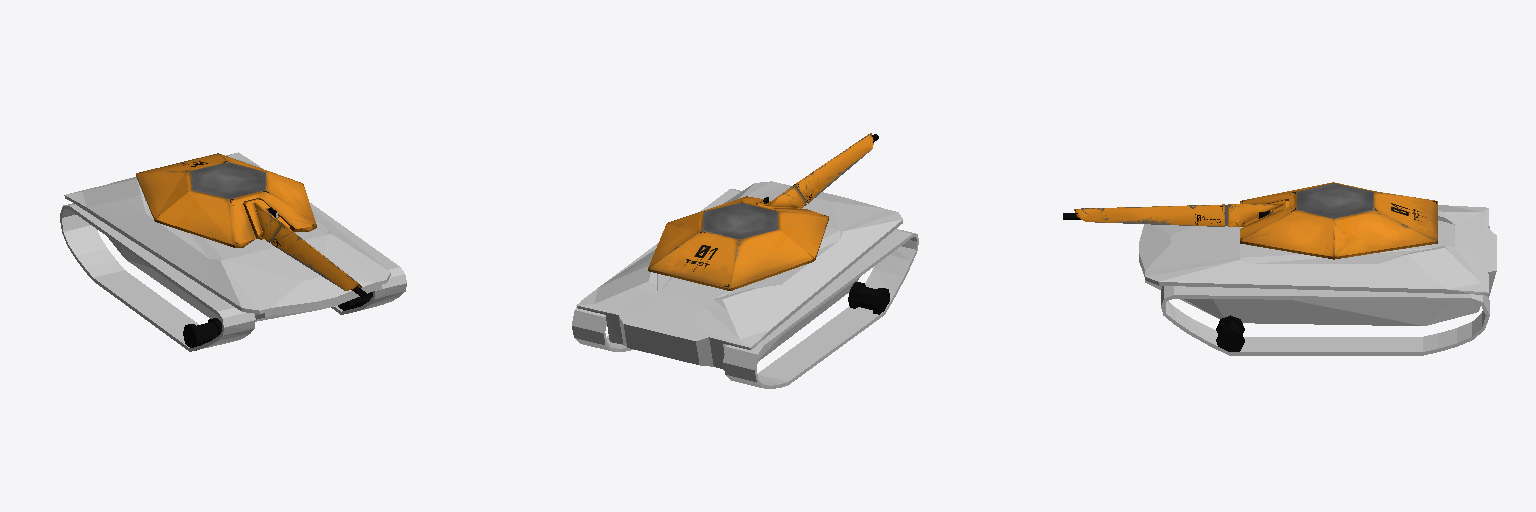
3 views of the same model, side by side, from view 1: azimuth 30°, elevation 25°; view 2: azimuth 150°, elevation 25°; view 3: azimuth 270°, elevation 25° (orthographic).
Visible parts, largest first — view 1: Cube_Cube.003, Object_Cylinder.002, Cube.003_Cube.005, gun_Cylinder.012, Cylinder.002_Cylinder.001; view 2: Cube_Cube.003, Object_Cylinder.002, Cube.003_Cube.005, gun_Cylinder.012, Cylinder.002_Cylinder.001; view 3: Cube_Cube.003, Object_Cylinder.002, Cube.003_Cube.005, gun_Cylinder.012, Cylinder.002_Cylinder.001.
Boxes of the visible parts, box(x1,y1,x2,y2) form: Cube_Cube.003: box(64, 152, 390, 321); Object_Cylinder.002: box(136, 153, 316, 247); Cube.003_Cube.005: box(60, 202, 406, 351); gun_Cylinder.012: box(243, 199, 361, 290); Cylinder.002_Cylinder.001: box(183, 292, 372, 350); Cube_Cube.003: box(576, 181, 902, 369); Object_Cylinder.002: box(648, 196, 828, 290); Cube.003_Cube.005: box(572, 189, 918, 388); gun_Cylinder.012: box(757, 133, 873, 208); Cylinder.002_Cylinder.001: box(848, 282, 889, 314); Cube_Cube.003: box(1139, 205, 1496, 325); Object_Cylinder.002: box(1240, 182, 1437, 259); Cube.003_Cube.005: box(1161, 226, 1489, 355); gun_Cylinder.012: box(1074, 200, 1288, 226); Cylinder.002_Cylinder.001: box(1216, 315, 1244, 351).
Size of the model in its own units: 2.1 by 1.21 by 4.31.
7 materials, 2 textured.